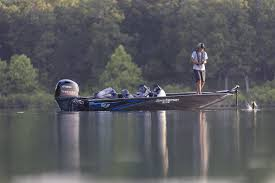boat: (55, 78, 238, 112), (247, 99, 261, 111)
